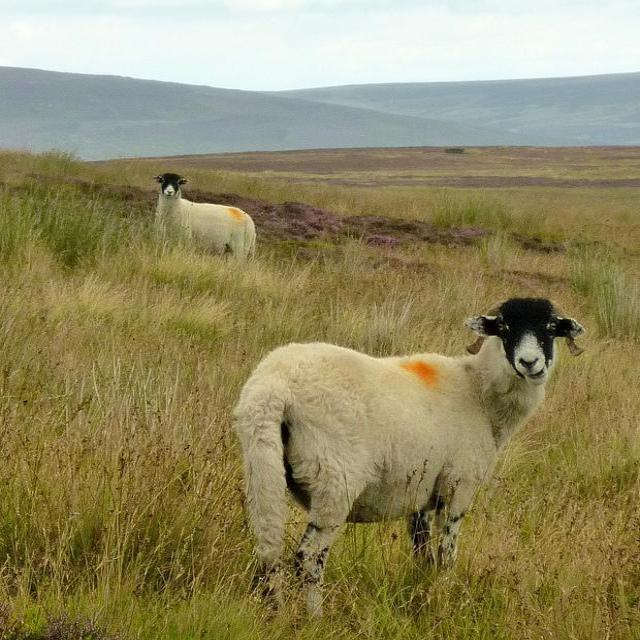Sheep: (240, 299, 590, 606), (153, 174, 257, 262)
